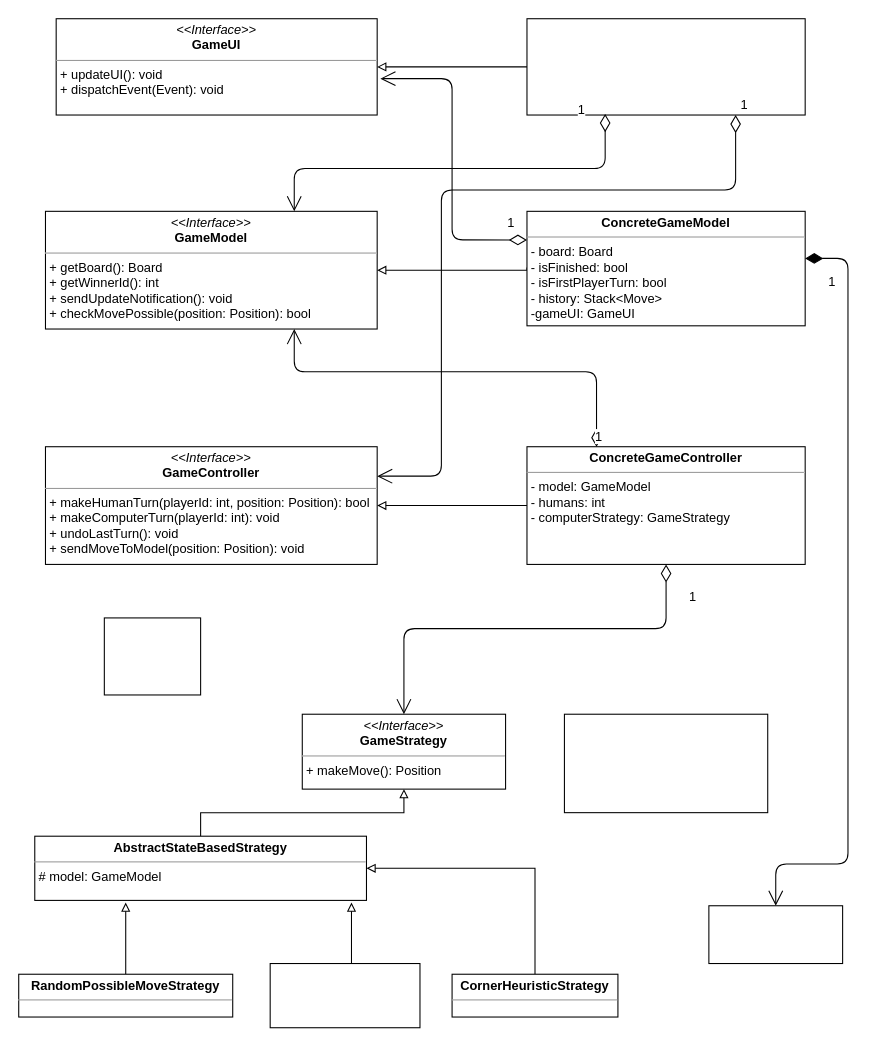
The diagram is 885 pixels wide and 1046 high, and some of its shapes have lost their labels. The shapes that lost their labels are listed below. From the top down, each one's centre as x and y in pixels, then its label:
At (x=665, y=66): "ConcreteGameUI - controller: GameController - model: GameModel".
At (x=152, y=656): "Position + x: int + y: int".
At (x=665, y=763): "<<Enumeration>> TileType + NoPlayer + FirstPlayer + SecondPlayer".
At (x=775, y=934): "Board + tiles: TileType[64]".
At (x=344, y=995): "DepthSearchStrategy - maxDepth: int".
